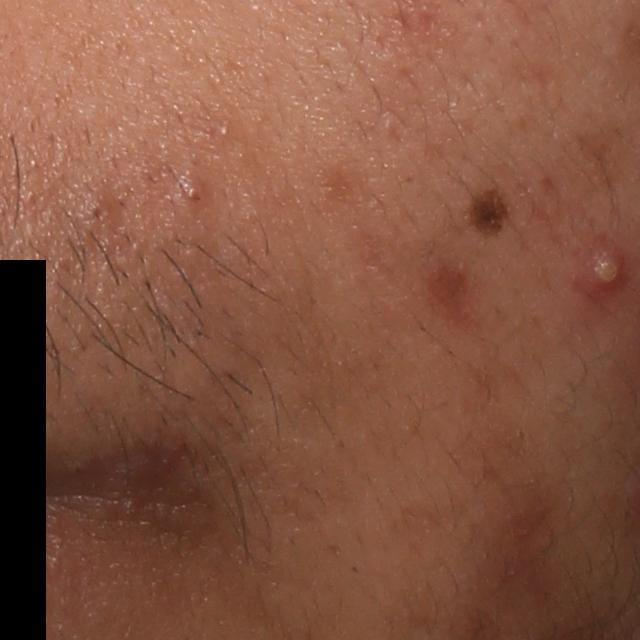atrophic_scar: (79, 449, 211, 542), (408, 253, 502, 351)
comedo: (88, 201, 109, 224)
nevus: (457, 181, 509, 244)
pustule: (581, 249, 627, 295)
